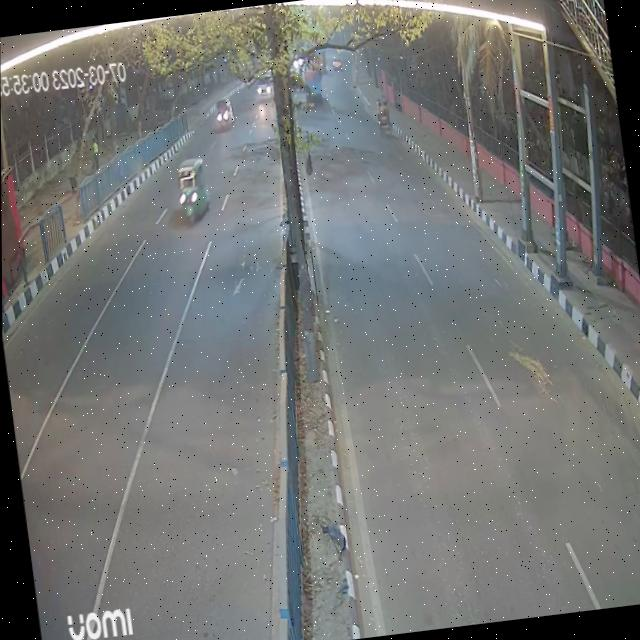cng: (169, 152, 212, 222)
